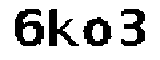3: (116, 5, 153, 53)
6: (12, 4, 46, 50)
k: (46, 4, 82, 50)
o: (81, 15, 113, 47)
